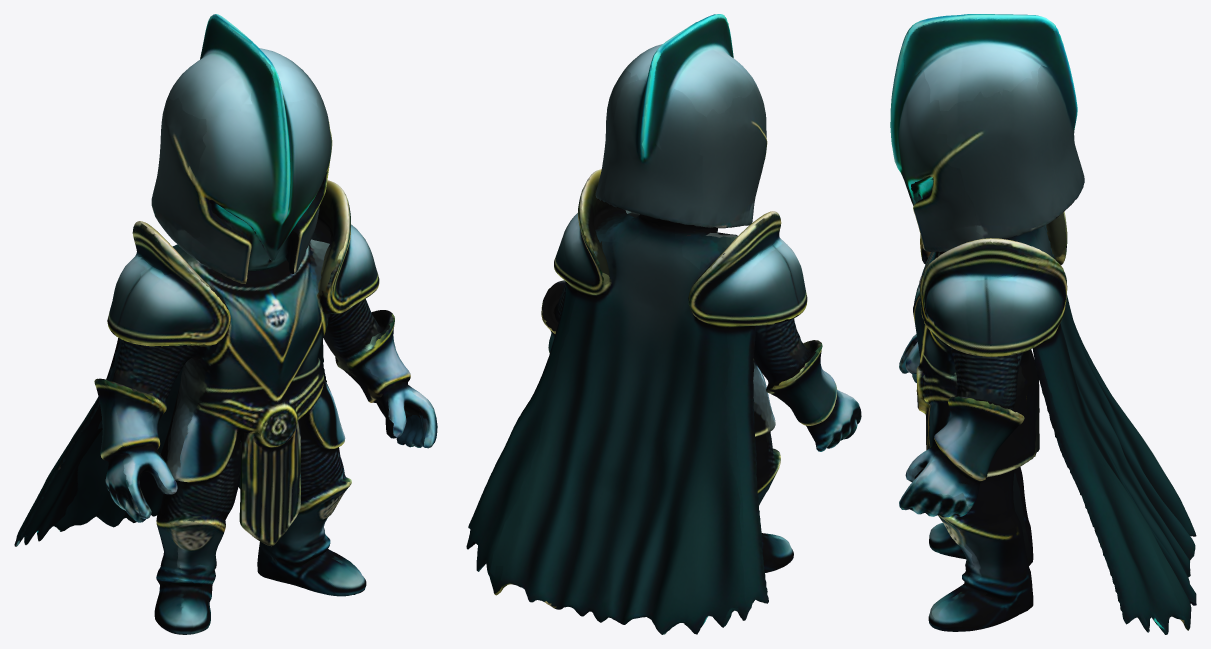
Rendered from warrior-mesh.glb.
The picture shows the model from 3 angles, left to right: view 1: azimuth 30°, elevation 25°; view 2: azimuth 150°, elevation 25°; view 3: azimuth 270°, elevation 25°; orthographic projection. The views are drawn at different scales.
Parts seen in each view (by area): view 1: tmpu78st7bj.ply; view 2: tmpu78st7bj.ply; view 3: tmpu78st7bj.ply.
Boxes of the visible parts, x1,y1,x2,y2 form: tmpu78st7bj.ply: (14,14,437,634); tmpu78st7bj.ply: (466,14,861,634); tmpu78st7bj.ply: (890,14,1196,634).
Size of the model in its own units: 0.591 by 0.9872 by 0.4828.
Materials: 1 (1 with a texture image).
